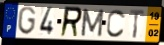4: (38, 6, 55, 38)
C: (106, 8, 127, 39)
G: (17, 6, 37, 36)
M: (79, 7, 105, 38)
R: (59, 5, 84, 38)
T: (128, 9, 146, 40)
